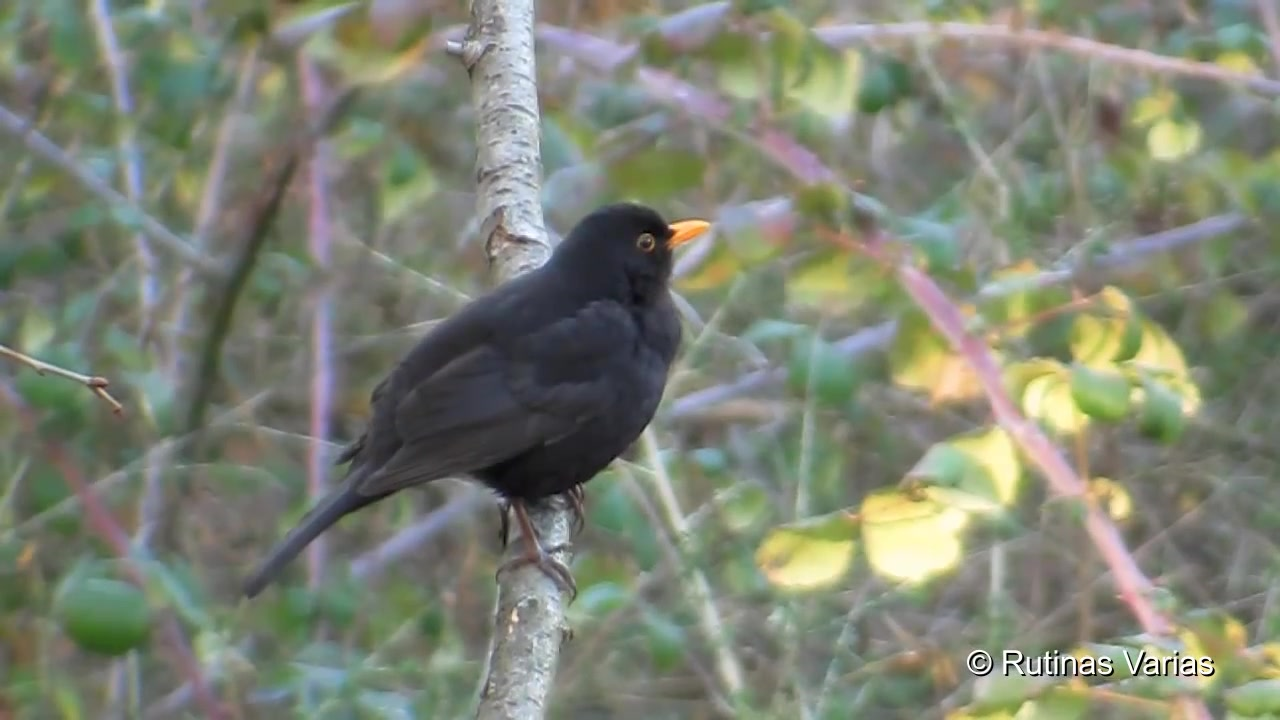bird: (242, 204, 712, 599)
